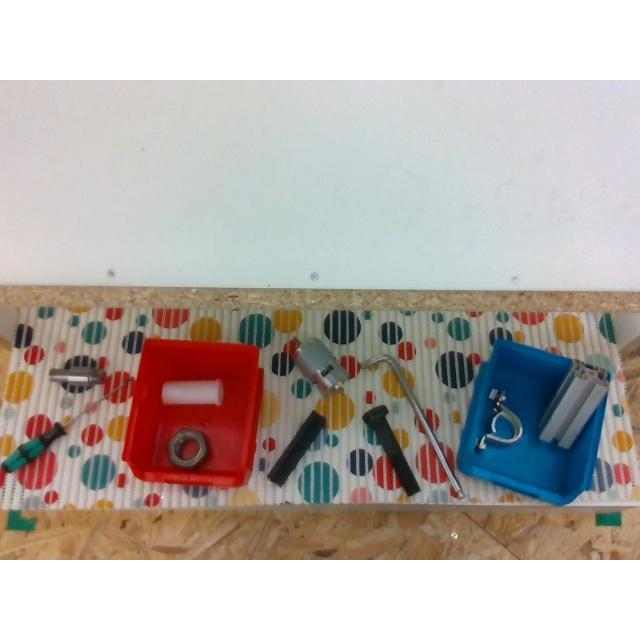AllenKey: (362, 354, 466, 498)
Axis2: (49, 367, 102, 393)
F20_20_B: (267, 410, 325, 486)
Housing: (475, 388, 523, 452)
M20_100: (362, 404, 420, 496)
M30: (168, 428, 208, 468)
Motor2: (292, 336, 348, 392)
S40_40_G: (539, 359, 605, 448)
Screwdriver: (1, 378, 131, 474)
Spacer: (162, 379, 222, 405)
container_box_blue: (457, 340, 609, 504)
container_box_red: (122, 339, 262, 487)
